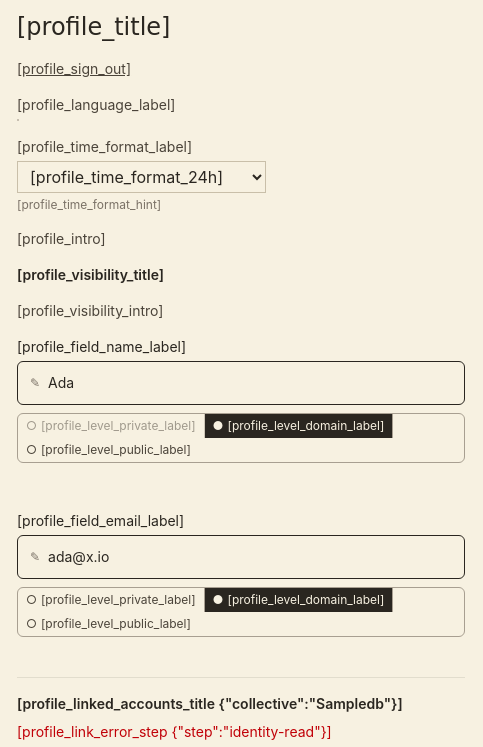
Test: #205 — /profile confirm and cancel › Escape CANCELS: editor closes, draft reverts, NOTHING is written — not even by the idle autosave later
Check: the element with test id "profile-field-name" is shown, box [17, 337, 465, 487]
Click the button "✎ Ada". click: (112, 392)
box: [17, 361, 465, 405]
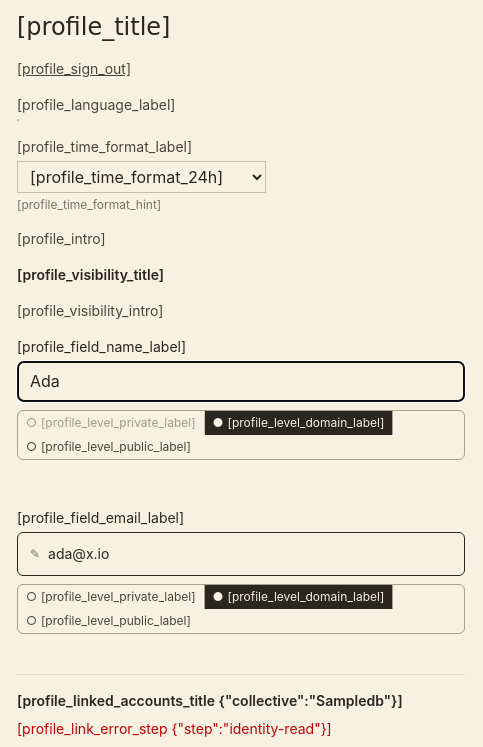
Replace the text in the field labelled "[profile_field_name_label]" with "Zed". click: (241, 381)
box: [17, 361, 465, 402]
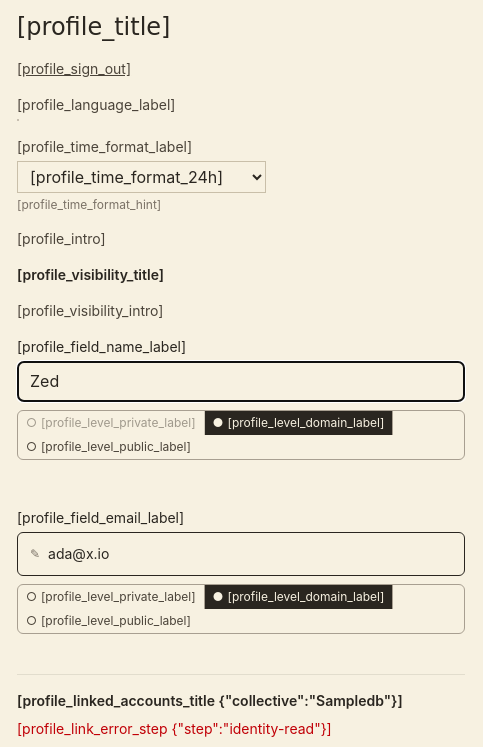
Press Escape in the field labelled "[profile_field_name_label]", box [17, 361, 465, 402]
Wait 2500 ms
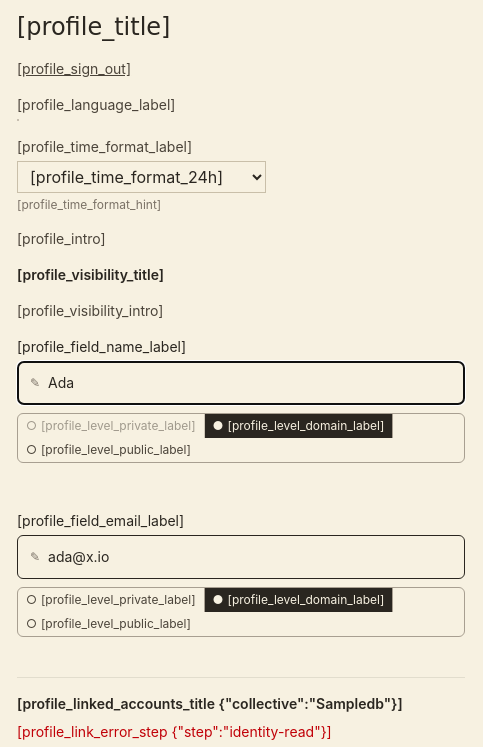
Check: the element showing "Ada" is shown, box [48, 374, 74, 391]
